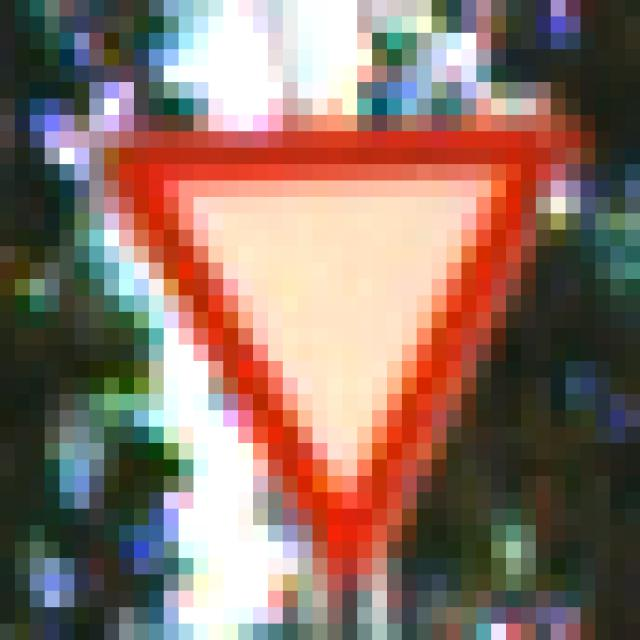Give Way: (90, 83, 552, 559)
